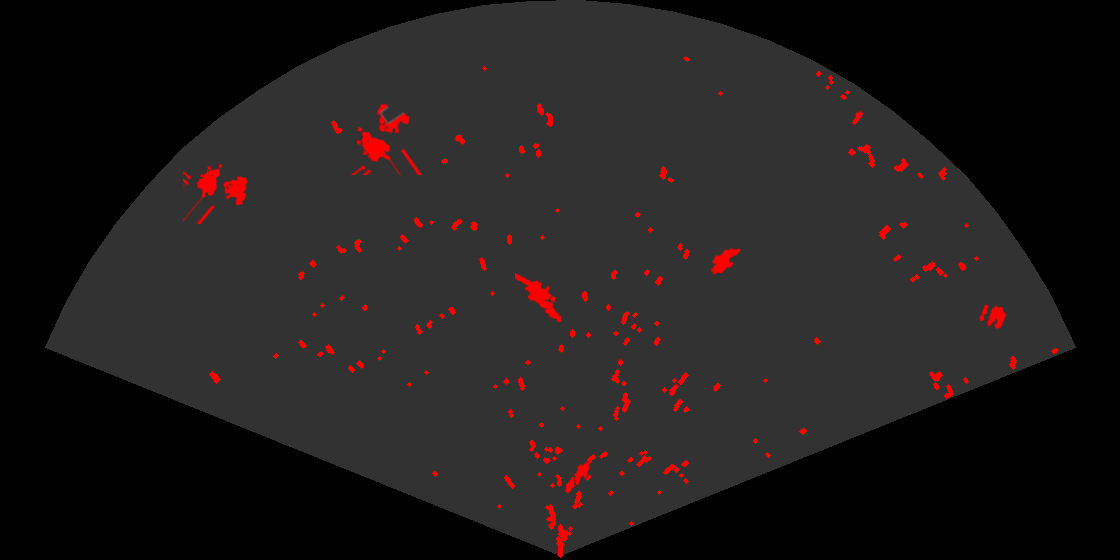AUV: (709, 247, 743, 276), (569, 460, 591, 487)
ball: (978, 303, 1008, 331)
cage: (349, 102, 424, 175), (183, 162, 249, 224)
frogman: (515, 272, 571, 326)
